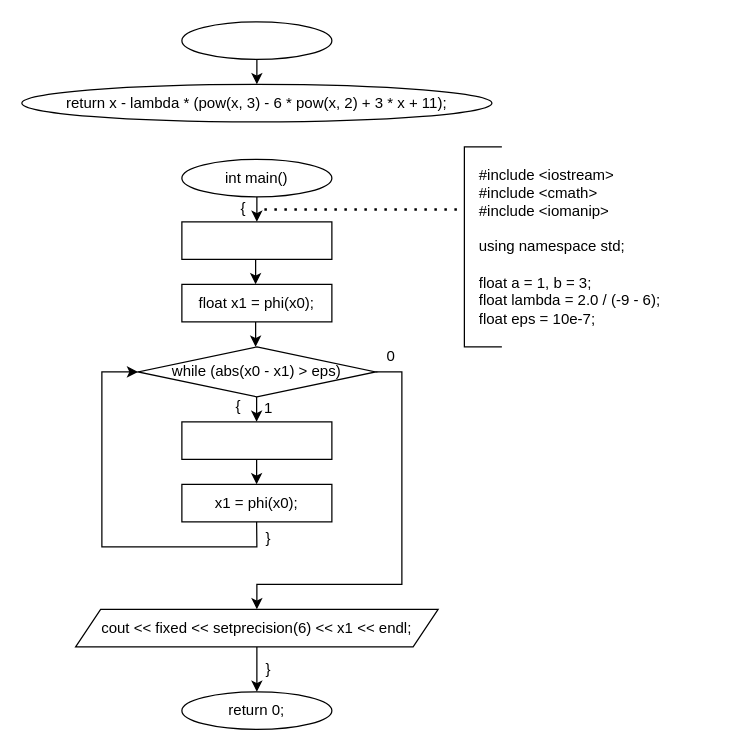
Some shapes in this 736 by 751 pixel diagram are drawn without their labels. Here are the shapes that lost their labels. From the top down, the centre of each, then its label:
point (256, 40): float phi(float x)
point (256, 240): float x0 = (a + b) / 2;
point (256, 440): x0 = x1;
